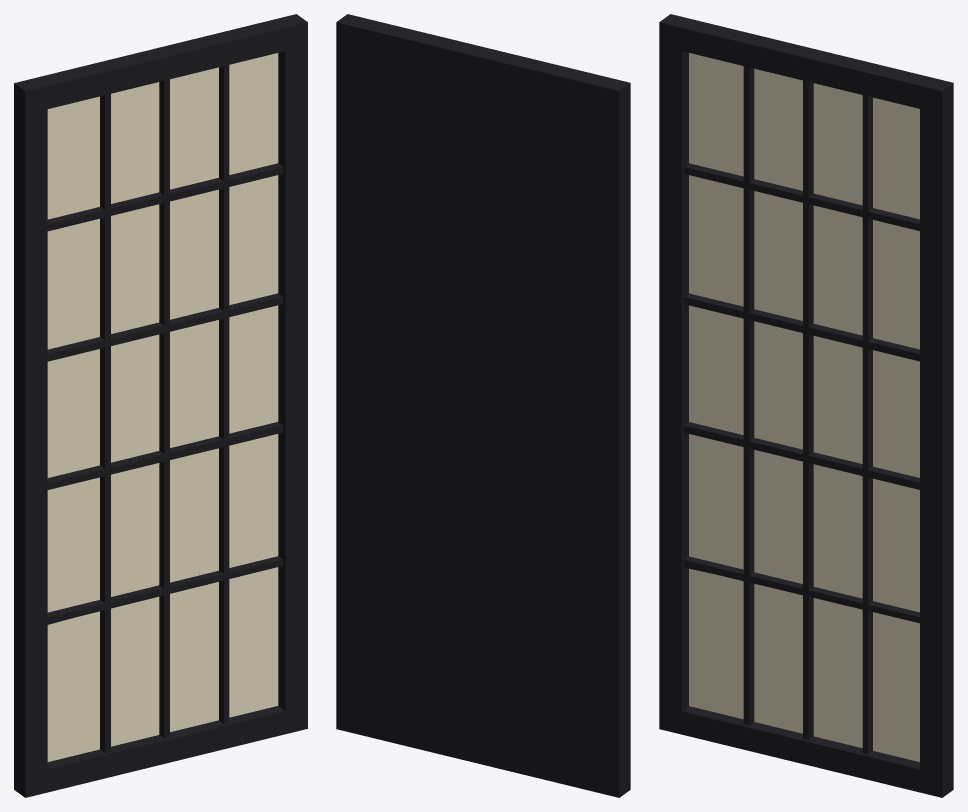
The model's file is DividerSection.fbx.
3 views of the same model, side by side, from view 1: azimuth 30°, elevation 25°; view 2: azimuth 150°, elevation 25°; view 3: azimuth 330°, elevation 25° (orthographic).
Parts seen in each view (by area): view 1: Cube; view 2: Cube; view 3: Cube.
Boxes of the visible parts, <box> form: Cube: <box>14,14,307,797</box>; Cube: <box>336,14,630,797</box>; Cube: <box>659,14,953,797</box>.
Bounding box in the file's own units: 1.71 × 4.08 × 0.121.
